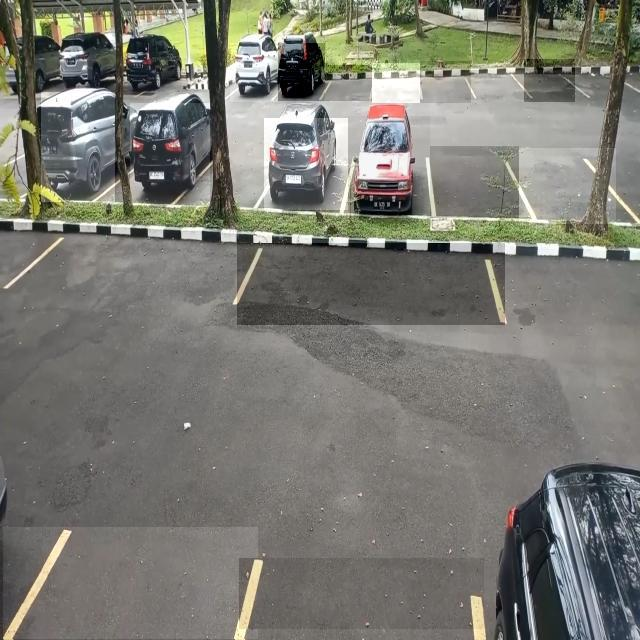empty: (4, 528, 258, 639), (237, 244, 505, 326), (239, 559, 484, 629), (519, 148, 616, 224), (430, 146, 519, 218), (524, 59, 575, 102), (420, 61, 471, 103), (471, 63, 524, 102), (372, 63, 422, 103), (325, 65, 373, 101)
occupied: (348, 116, 430, 217), (130, 103, 210, 205), (41, 92, 115, 202), (264, 118, 348, 210), (230, 43, 278, 102), (278, 44, 325, 102)
